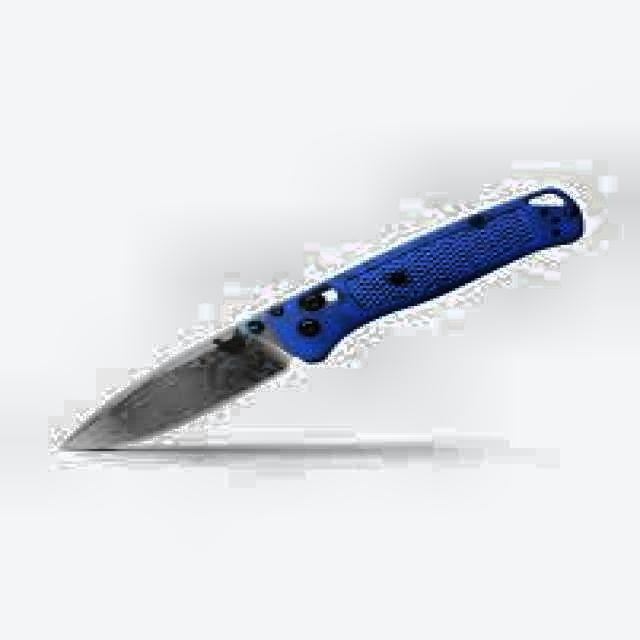knife: (68, 178, 589, 454)
